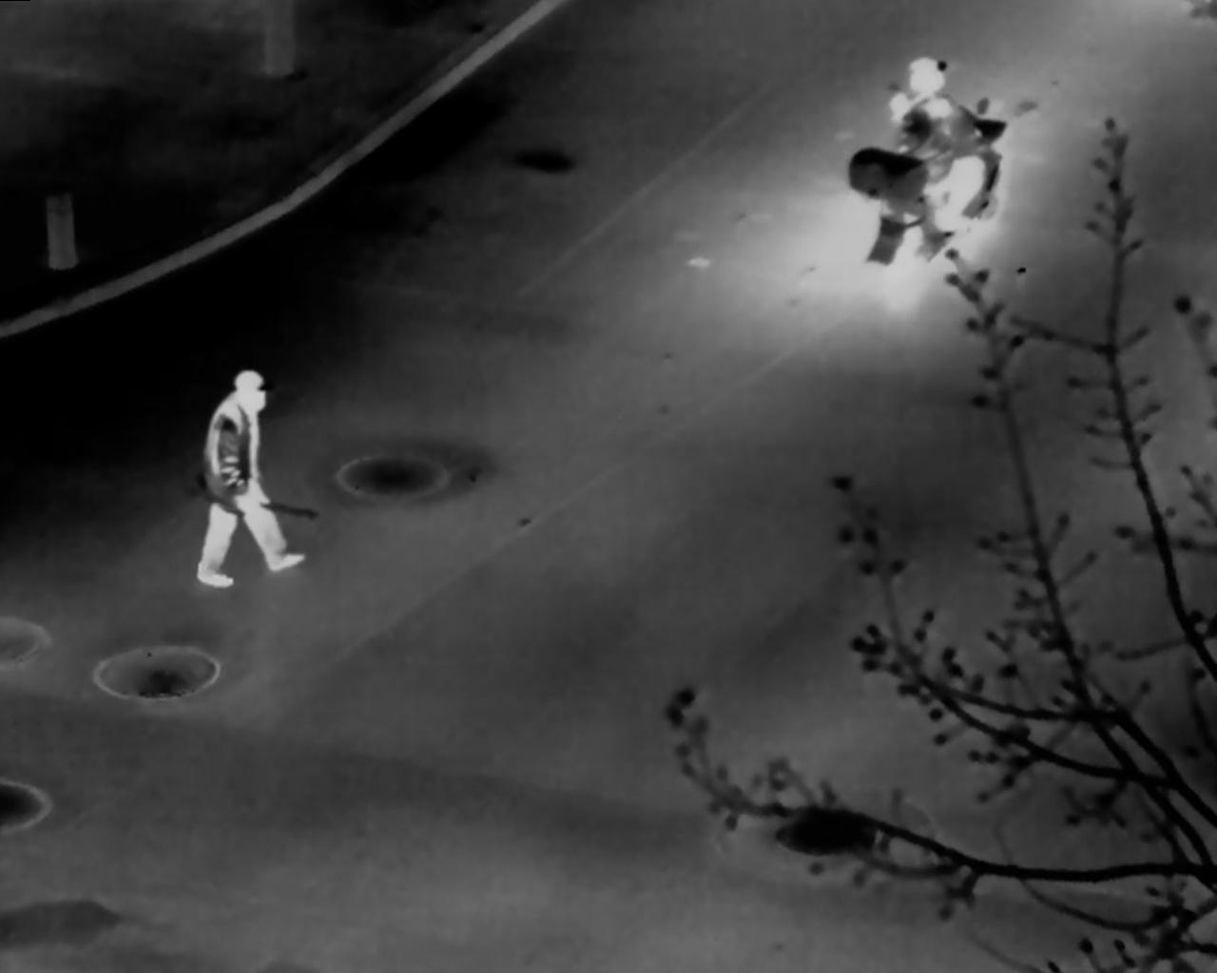person: (196, 367, 306, 588), (891, 56, 986, 234)
